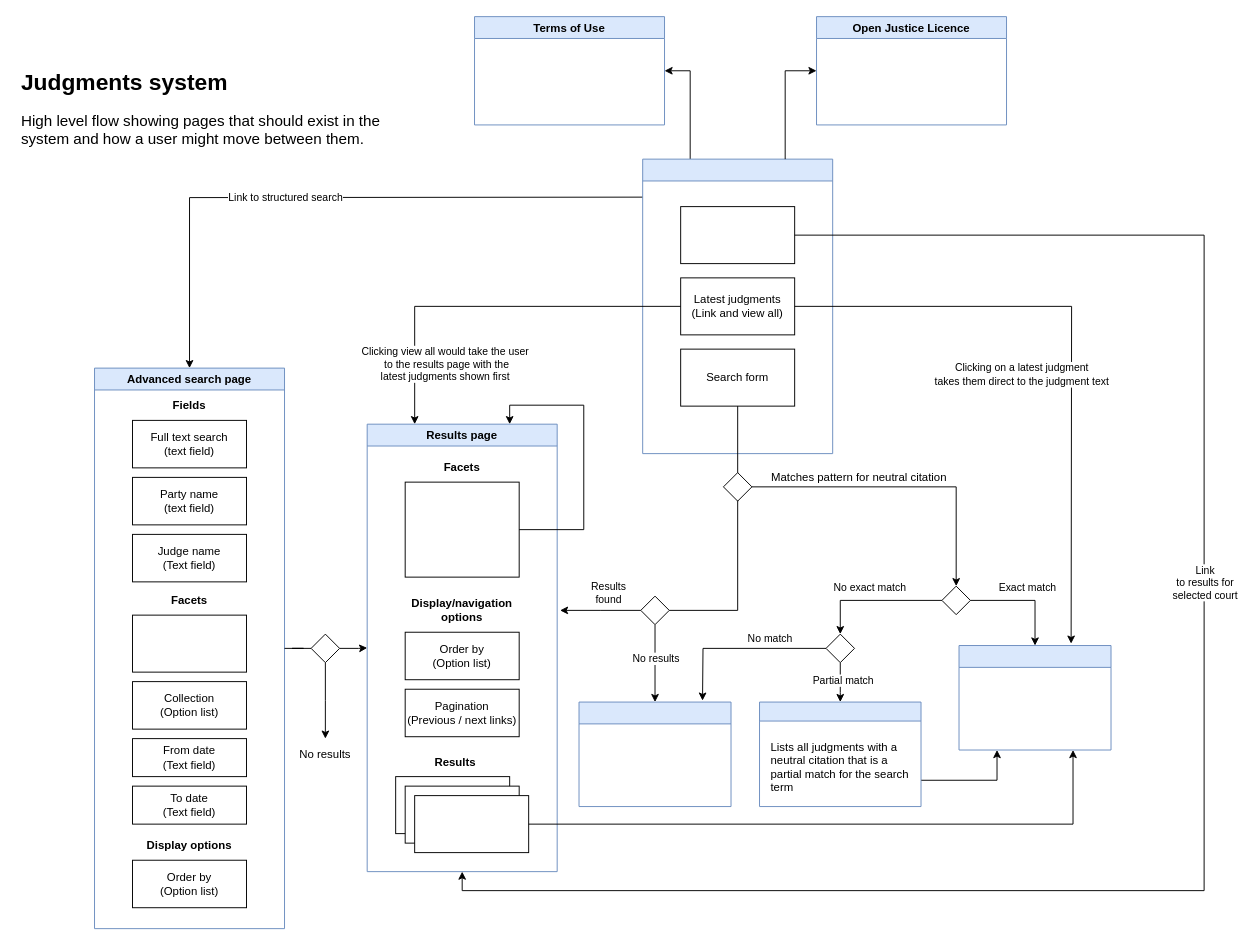
Some shapes in this 1253 by 945 pixel diagram are drawn without their labels. The shapes that lost their labels are listed below. From the top down, each one's box as (x1, y1, x2, y2) in pixels, then its label:
(680, 206, 795, 264): Browse by court
(642, 158, 833, 454): Home page
(404, 481, 519, 577): Apply/remove refinement (replicating those available on advanced search)
(132, 614, 247, 672): Court (Select with opt group)
(958, 645, 1111, 750): Judgment page
(578, 701, 731, 807): No results page
(759, 701, 921, 807): Disambiguation page
(414, 795, 529, 853): Judgment
